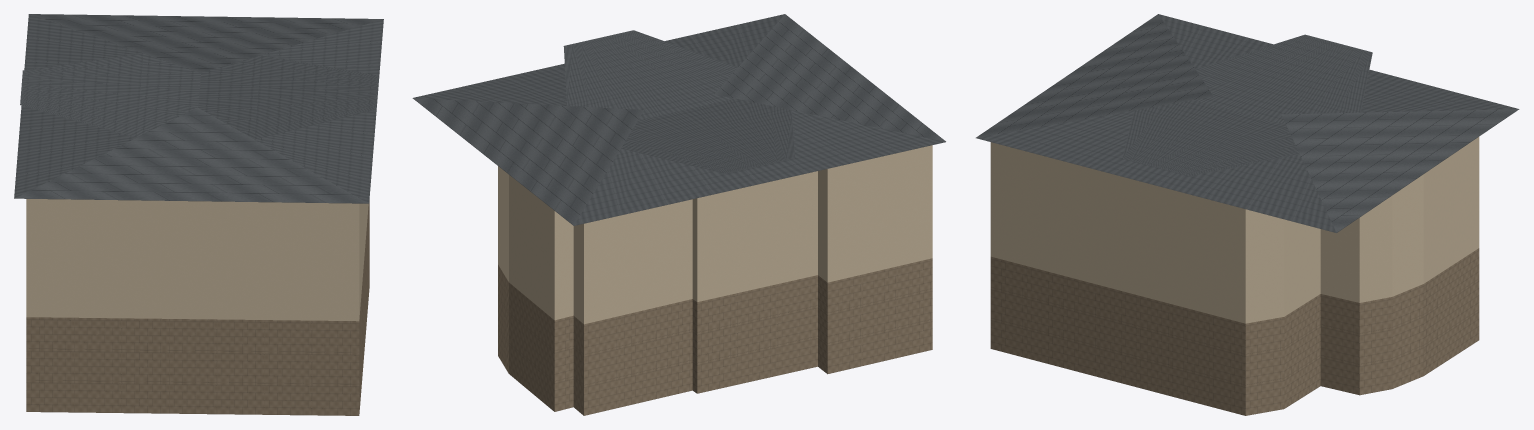
The model's file is bld_c8_6_507.gltf.
3 renders of one model, left to right at view 1: azimuth 30°, elevation 25°; view 2: azimuth 150°, elevation 25°; view 3: azimuth 270°, elevation 25°, orthographic. The views are drawn at different scales.
Parts seen in each view (by area): view 1: bld_c8_6_507; view 2: bld_c8_6_507; view 3: bld_c8_6_507.
Boxes of the visible parts, x1=… form: bld_c8_6_507: x1=14, y1=14, x2=383, y2=415; bld_c8_6_507: x1=412, y1=14, x2=945, y2=415; bld_c8_6_507: x1=976, y1=14, x2=1519, y2=415.
Bounding box in the file's own units: 25.98 × 12.7 × 27.26.
Materials: 3 (3 with a texture image).
